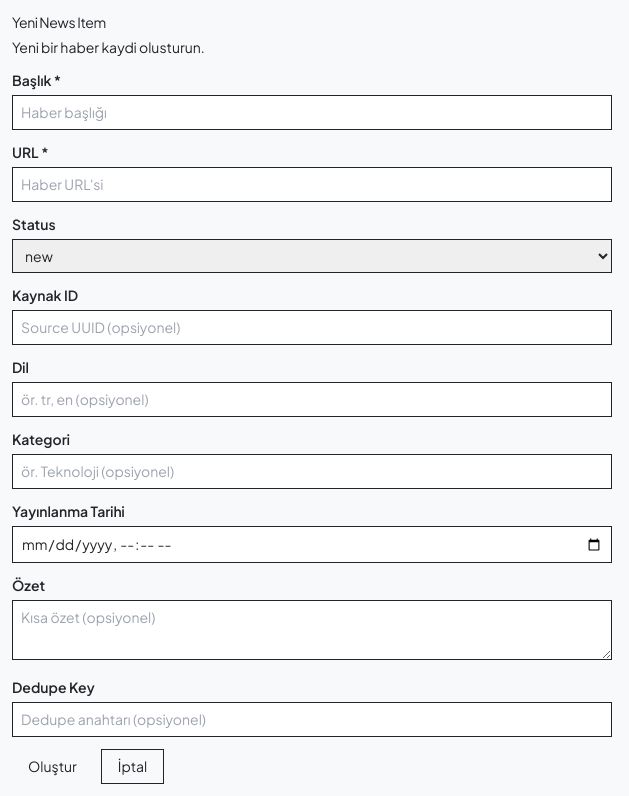
Test case: NewsItem form smoke tests › shows title required error on empty submit
The width and height of the screenshot is (629, 796).
Click the button "Oluştur". click: {"x": 52, "y": 766}
box: x1=12 y1=749 x2=93 y2=784
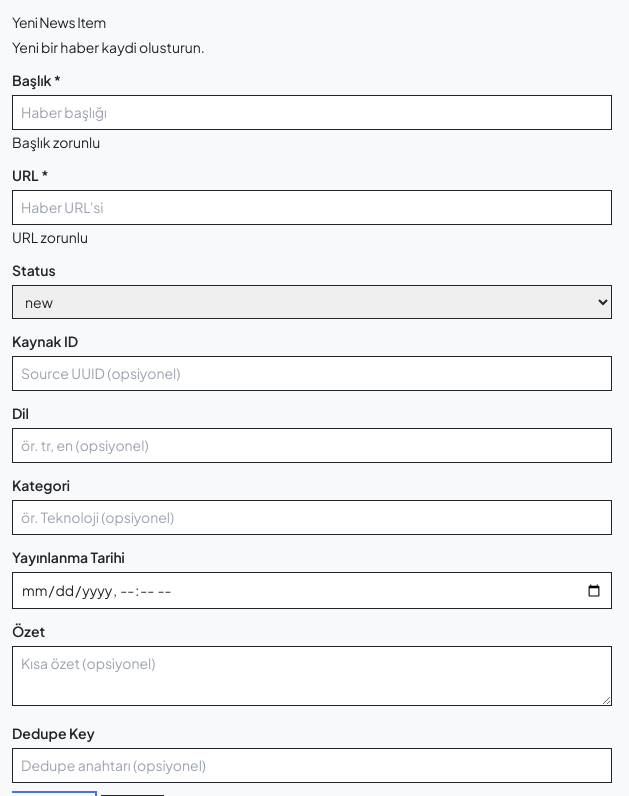
expect the text "Başlık zorunlu" is shown: met, box x1=12 y1=133 x2=100 y2=151
